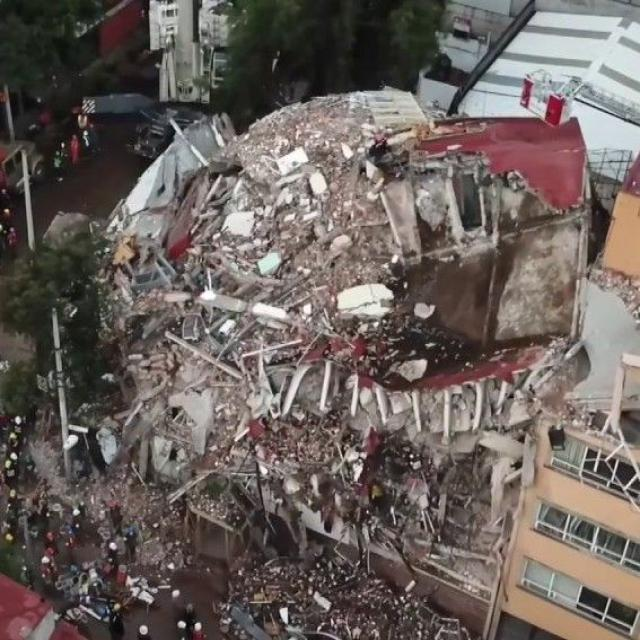collapsed_building: (109, 102, 561, 599)
